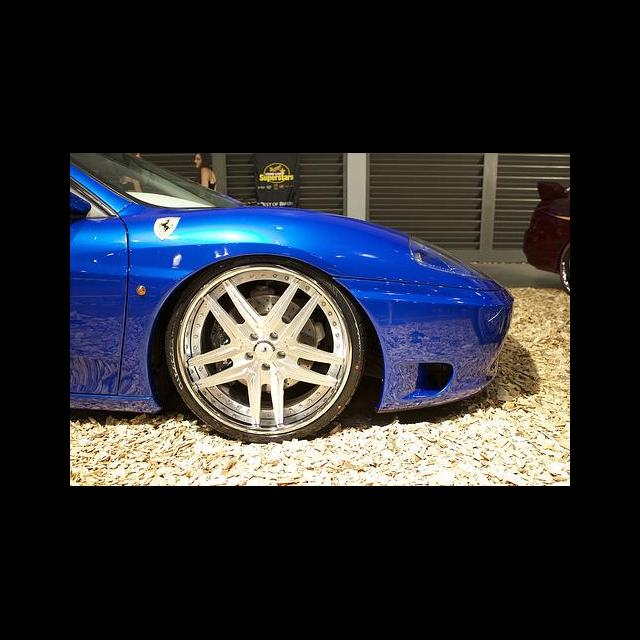NO-Hardhat: (196, 154, 213, 162)
NO-Mask: (196, 162, 204, 168)
NO-Safety Vest: (201, 170, 217, 190), (121, 175, 138, 193)
Person: (120, 154, 144, 194), (194, 154, 218, 192)
sedan: (70, 154, 513, 448), (521, 178, 570, 298)
